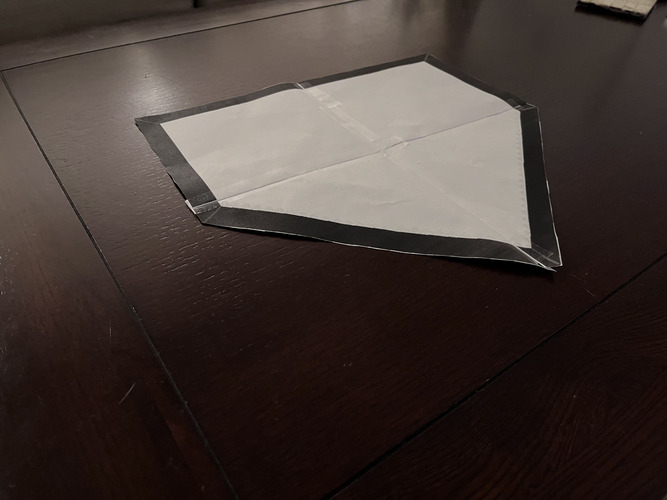homeplate: (134, 51, 563, 274)
